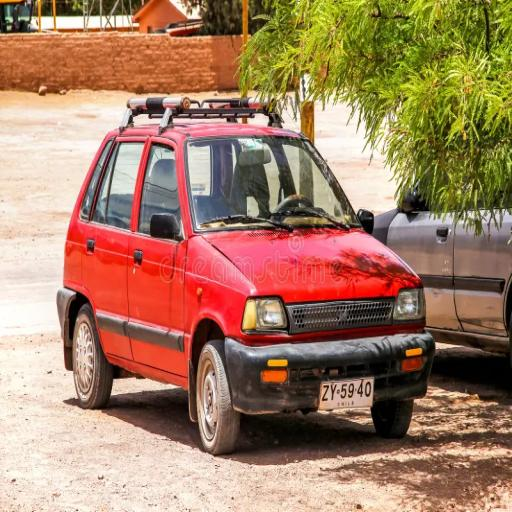License: (318, 374, 383, 408)
